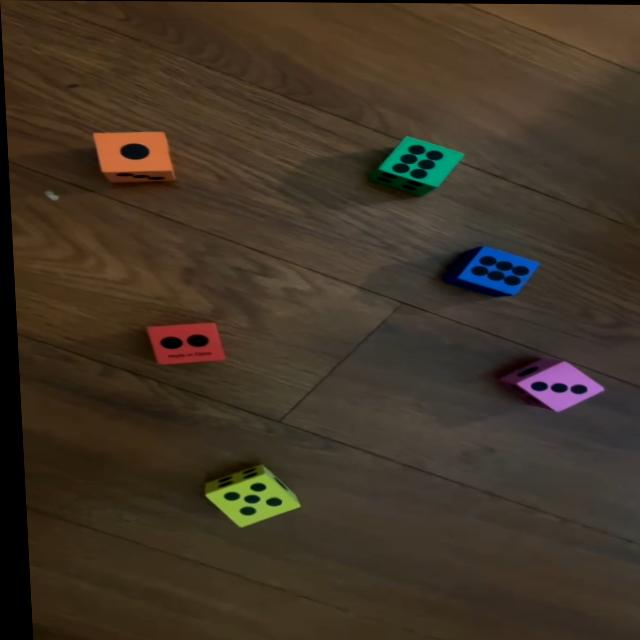cube: (372, 135, 464, 194), (440, 246, 536, 296), (142, 319, 223, 365)
